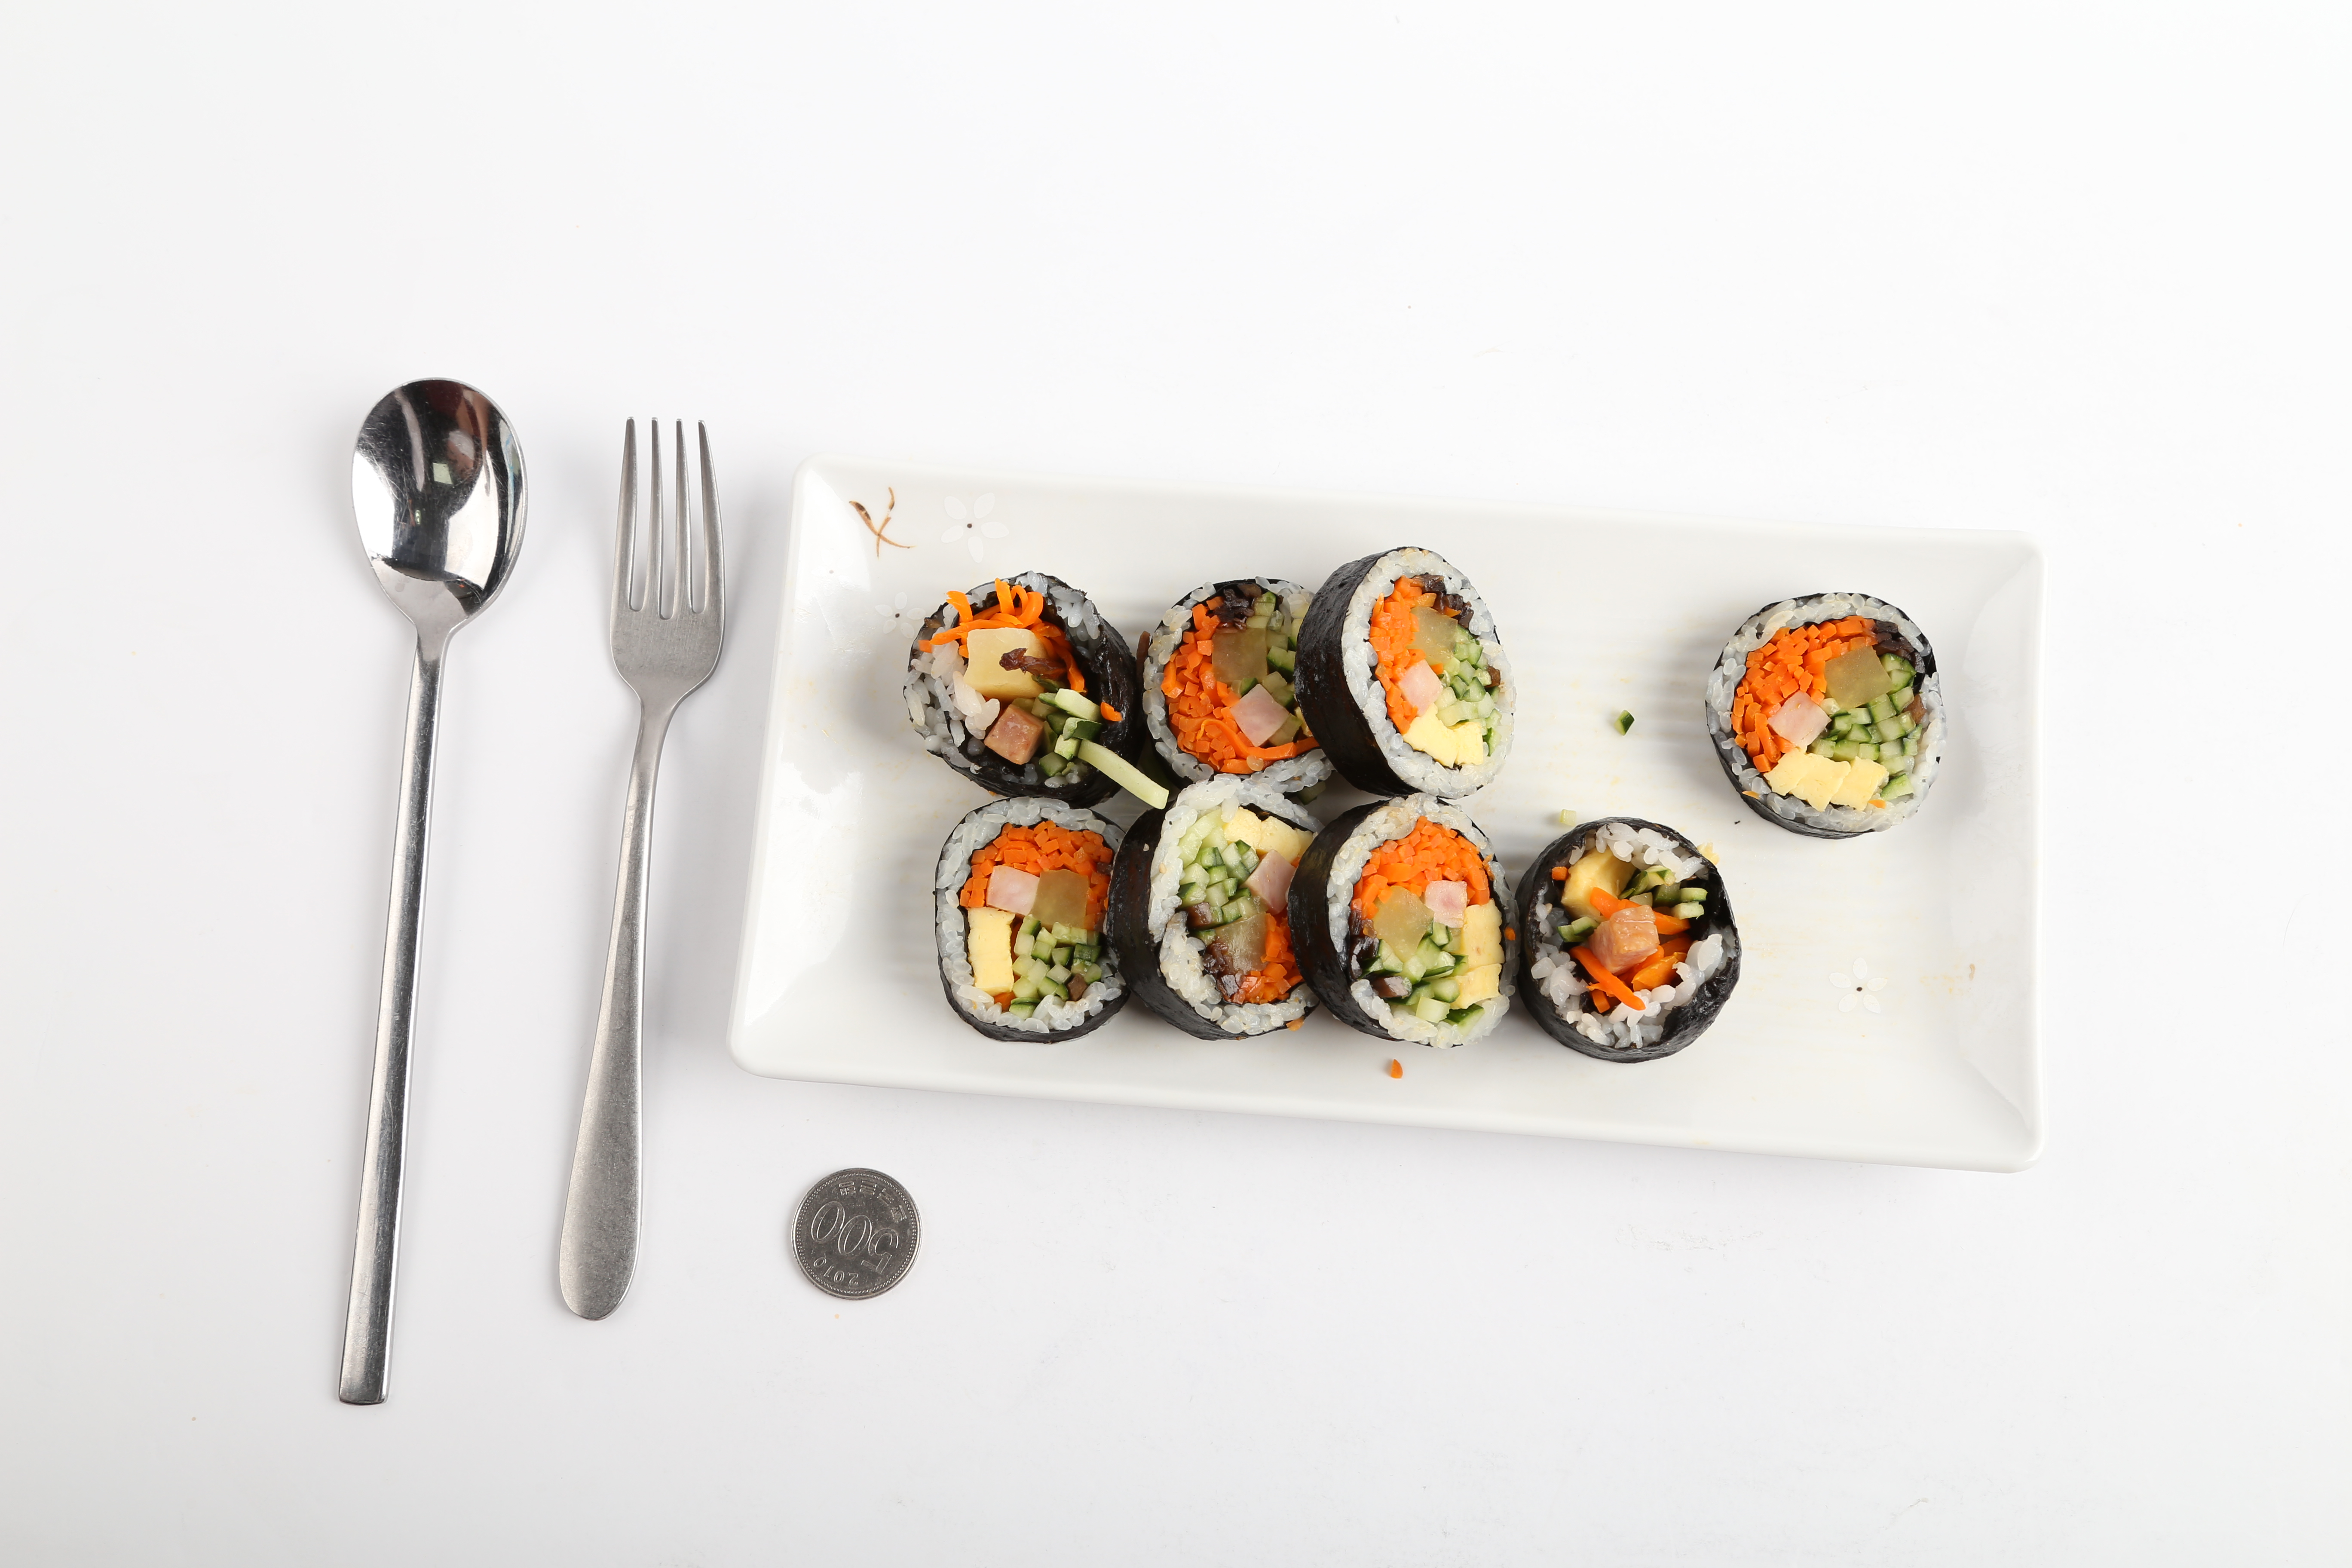dish: (728, 462, 2053, 1178)
ref_coin: (787, 1162, 926, 1302)
ref_fork: (600, 411, 731, 742)
ref_spoon: (343, 369, 535, 674)
김밥: (896, 541, 1948, 1067)
